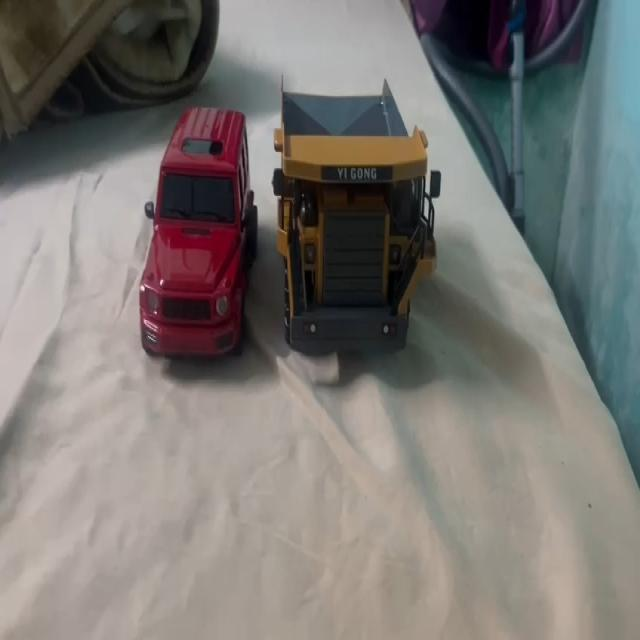dump_truck: (272, 73, 435, 358)
light_vehicle: (136, 101, 254, 356)
